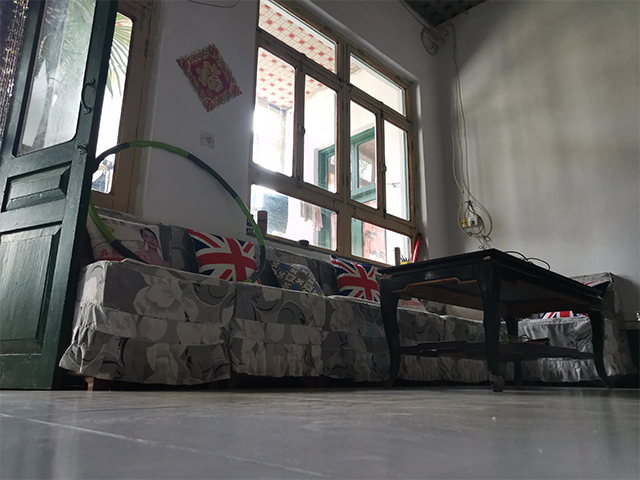sofa: (79, 212, 379, 392)
table: (375, 247, 614, 393)
